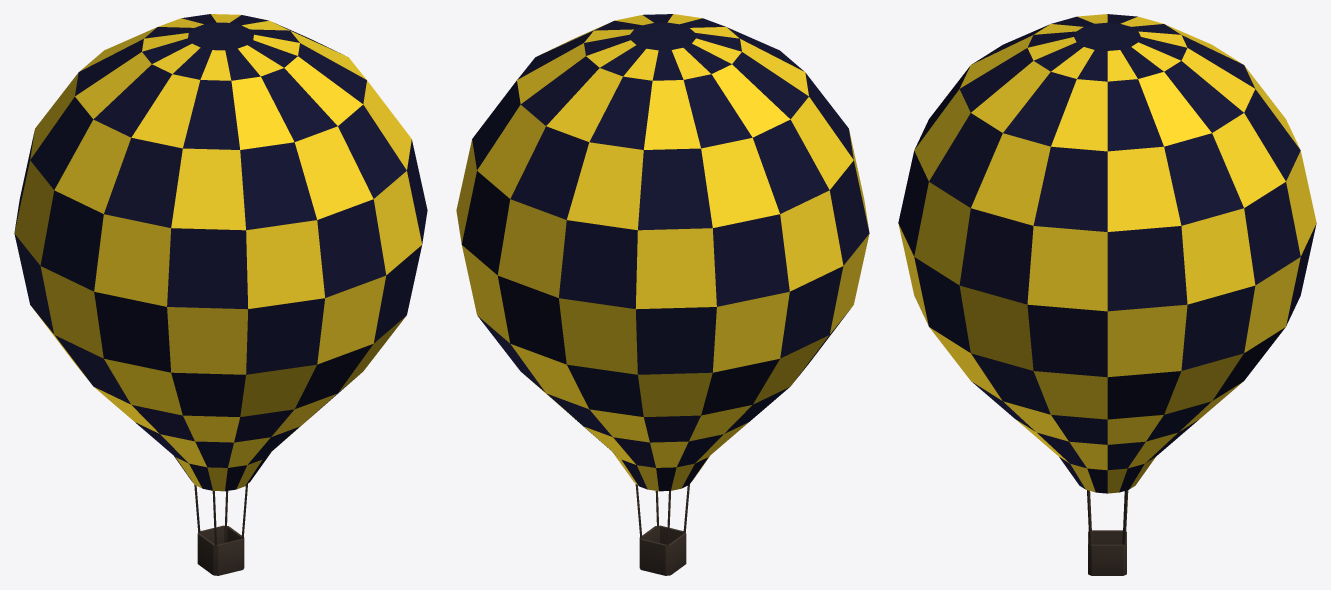
The model's file is prop_baloon_E.FBX.
3 renders of one model, left to right at view 1: azimuth 30°, elevation 25°; view 2: azimuth 150°, elevation 25°; view 3: azimuth 270°, elevation 25°, orthographic.
Visible parts, largest first — view 1: prop_baloon_E; view 2: prop_baloon_E; view 3: prop_baloon_E.
Part boxes in pixels (x1,y1,x2,y2): prop_baloon_E: [14, 14, 427, 575]; prop_baloon_E: [456, 14, 869, 575]; prop_baloon_E: [898, 14, 1316, 575].
Size of the model in its own units: 591 by 828 by 591.
Materials: 1 (1 with a texture image).
